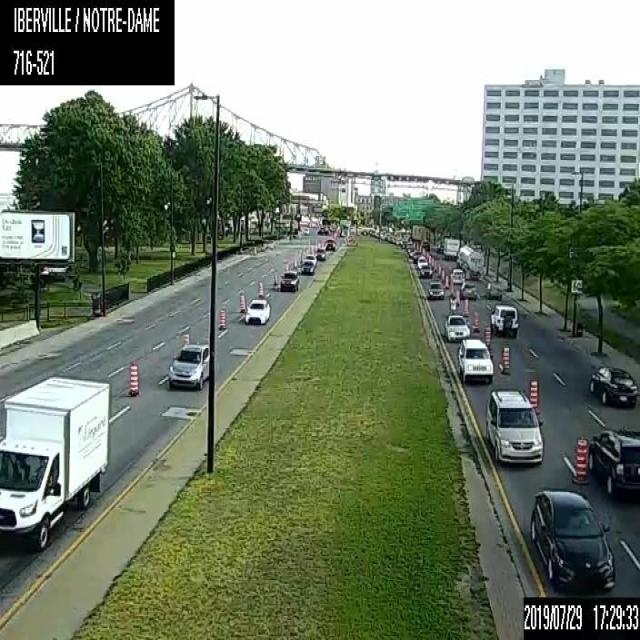construction: (454, 288, 479, 332), (572, 434, 587, 482), (128, 360, 138, 396), (528, 378, 538, 414), (483, 321, 492, 351), (501, 344, 509, 375), (216, 307, 226, 329), (238, 288, 246, 312), (256, 276, 263, 296), (180, 332, 188, 344), (272, 270, 276, 286), (444, 274, 448, 288), (292, 254, 296, 266), (283, 262, 288, 270), (441, 268, 444, 281), (433, 260, 436, 271), (253, 245, 256, 255), (431, 257, 434, 266), (438, 264, 440, 276), (428, 254, 430, 264)
vehicle: (0, 374, 110, 550), (528, 487, 616, 592), (484, 386, 544, 466), (586, 425, 639, 496), (586, 361, 639, 407), (165, 342, 209, 389), (458, 338, 493, 382), (488, 302, 519, 334), (456, 244, 483, 279), (244, 296, 270, 324), (443, 314, 470, 340), (279, 268, 298, 291), (426, 280, 444, 299), (485, 280, 502, 300), (443, 238, 459, 259), (412, 224, 429, 242), (461, 282, 476, 300), (450, 268, 464, 285), (418, 264, 432, 277), (300, 260, 313, 273), (324, 236, 336, 250), (304, 253, 316, 266), (315, 247, 326, 260), (416, 255, 427, 267), (412, 250, 422, 262), (420, 238, 429, 250), (435, 243, 443, 252), (316, 226, 326, 233), (302, 227, 308, 234)
